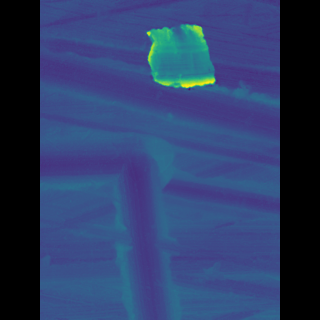Loch: (69, 142, 250, 219), (123, 142, 178, 320), (147, 20, 210, 96)
